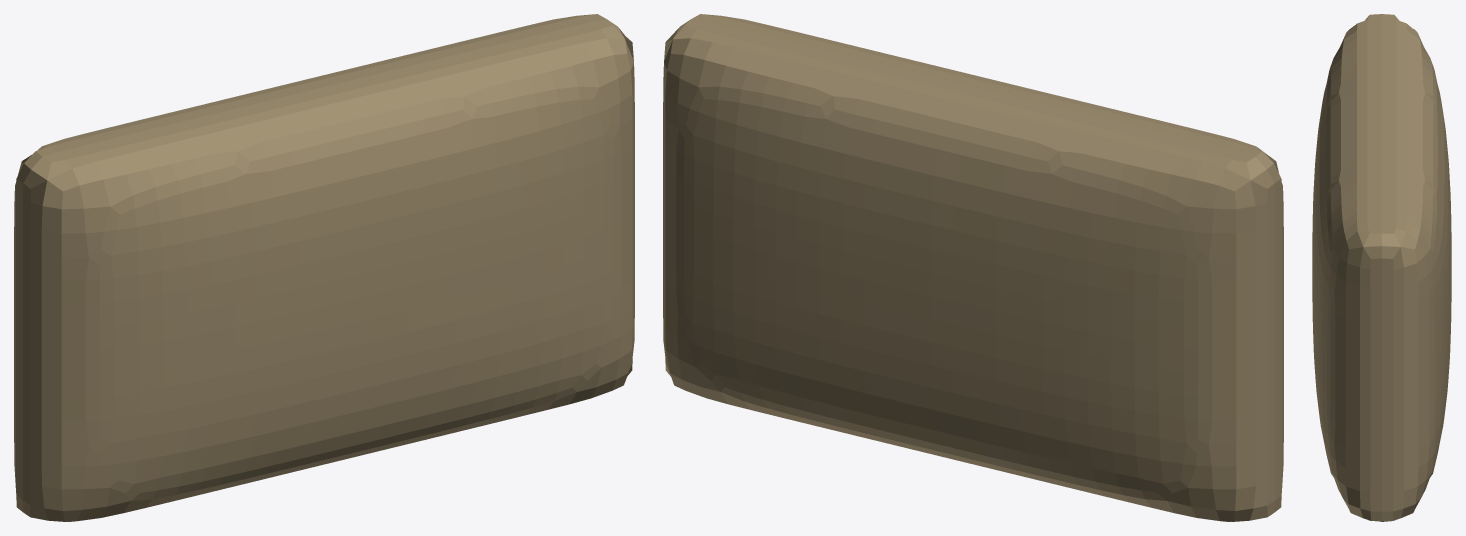
File: SAB-LMB-std.glb
3 views of the same model, side by side, from view 1: azimuth 30°, elevation 25°; view 2: azimuth 150°, elevation 25°; view 3: azimuth 270°, elevation 25° (orthographic). The views are drawn at different scales.
Parts seen in each view (by area): view 1: pillow-lumbar:pbr; view 2: pillow-lumbar:pbr; view 3: pillow-lumbar:pbr.
Boxes of the visible parts, x1,y1,x2,y2 form: pillow-lumbar:pbr: [14, 14, 634, 521]; pillow-lumbar:pbr: [663, 14, 1283, 521]; pillow-lumbar:pbr: [1312, 14, 1451, 521].
Size of the model in its own units: 0.5426 by 0.3135 by 0.1362.
